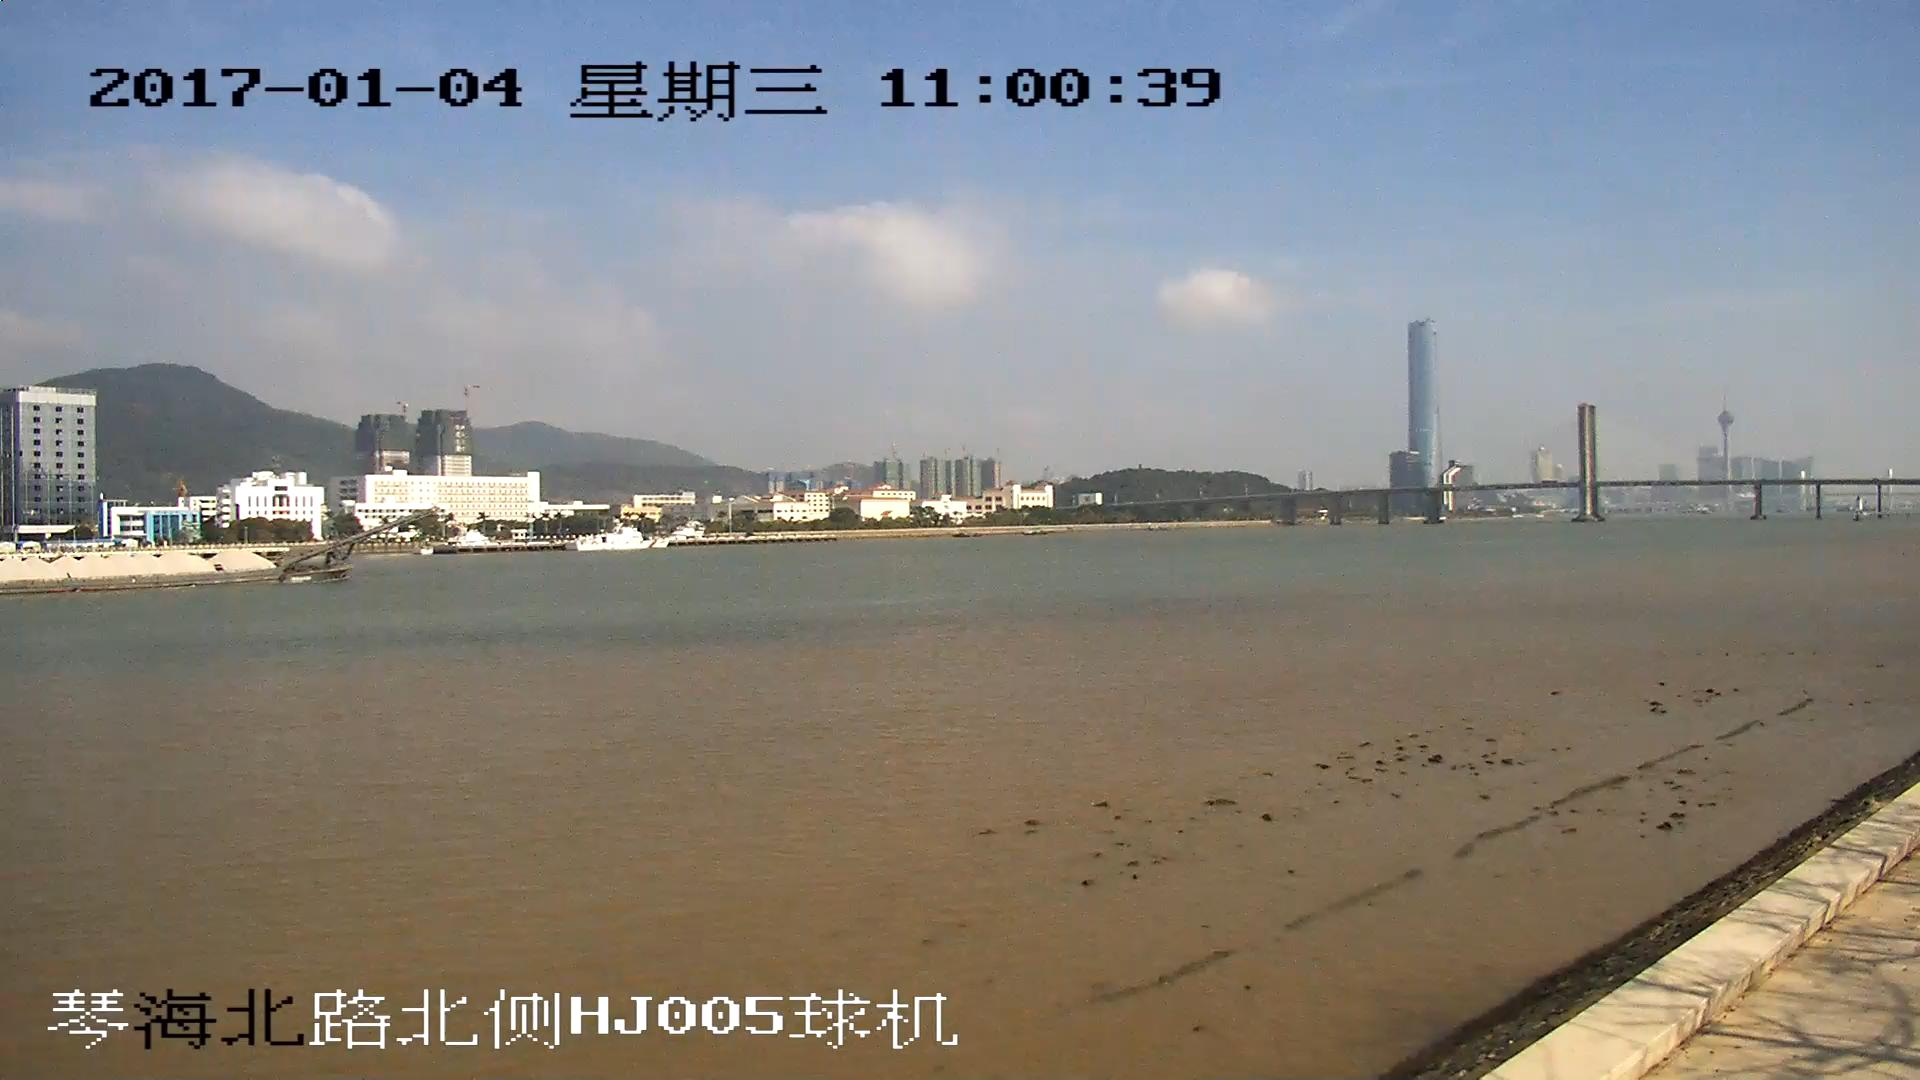ore carrier: (1, 512, 434, 598)
